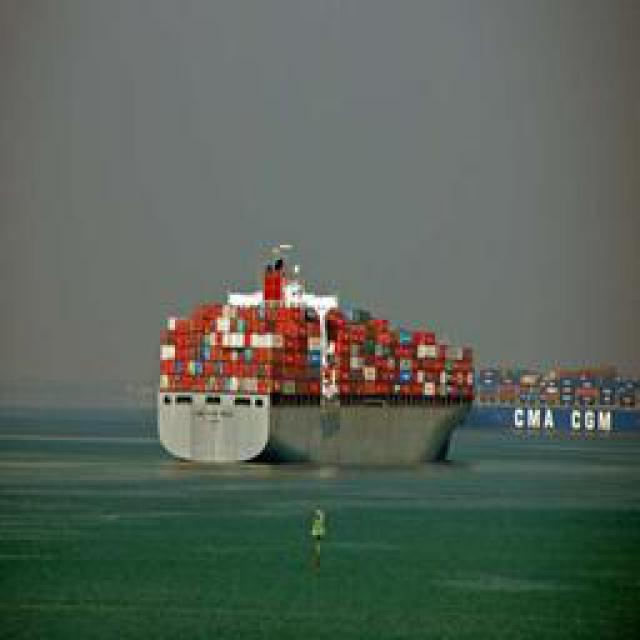Ship: (153, 235, 479, 471)
